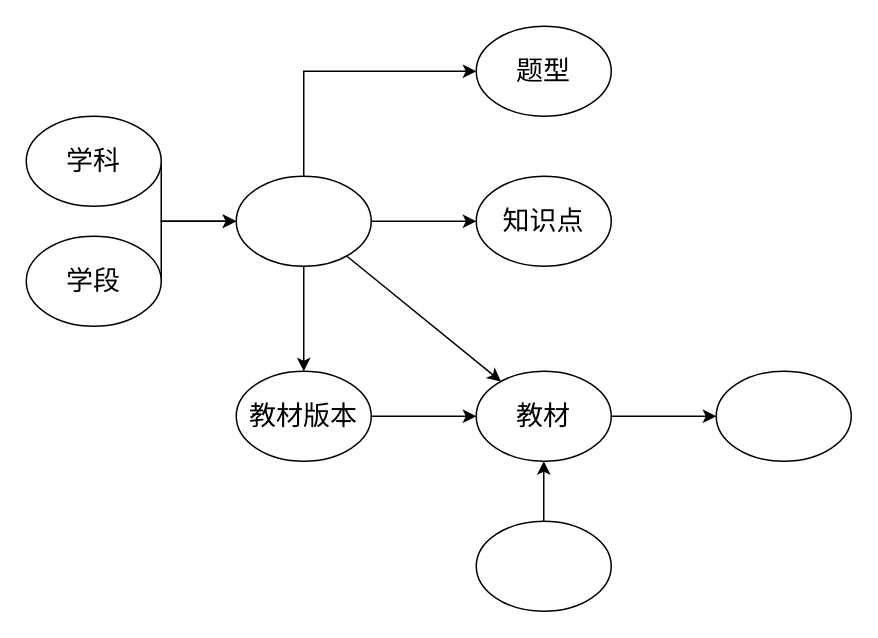
Some shapes in this 878 by 638 pixel diagram are drawn without their labels. Each missing label, with the centre of its shape:
"年级" belongs at [543,565].
"章节" belongs at [783,415].
"课程" belongs at [303,220].
